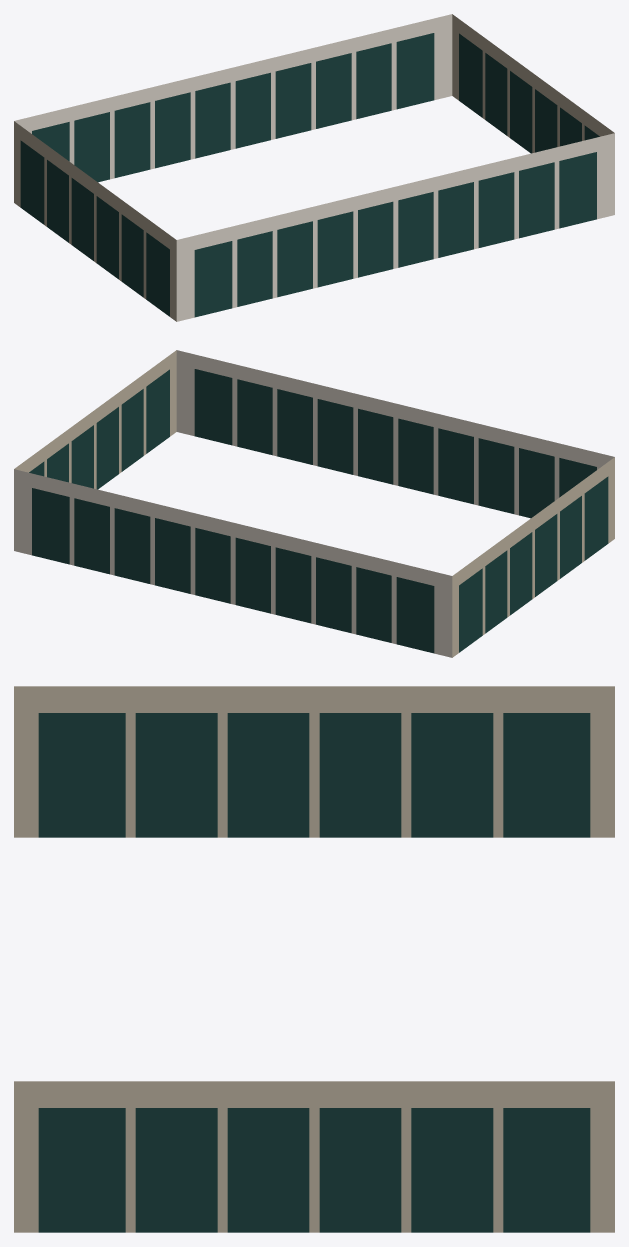
Rendered from TB_CITY_Skysc_E_BodyB_Brown.FBX.
The picture shows the model from 3 angles, top to bottom: view 1: azimuth 30°, elevation 25°; view 2: azimuth 150°, elevation 25°; view 3: azimuth 270°, elevation 25°; orthographic projection. The views are drawn at different scales.
Visible parts, largest first — view 1: TB_CITY_Skysc_E_BodyB_Brown; view 2: TB_CITY_Skysc_E_BodyB_Brown; view 3: TB_CITY_Skysc_E_BodyB_Brown.
Part boxes in pixels (left/top/right/bottom): TB_CITY_Skysc_E_BodyB_Brown: left=14, top=14, right=614, bottom=321; TB_CITY_Skysc_E_BodyB_Brown: left=14, top=350, right=614, bottom=657; TB_CITY_Skysc_E_BodyB_Brown: left=14, top=686, right=614, bottom=1232.
Size of the model in its own units: 28 by 5 by 18.
